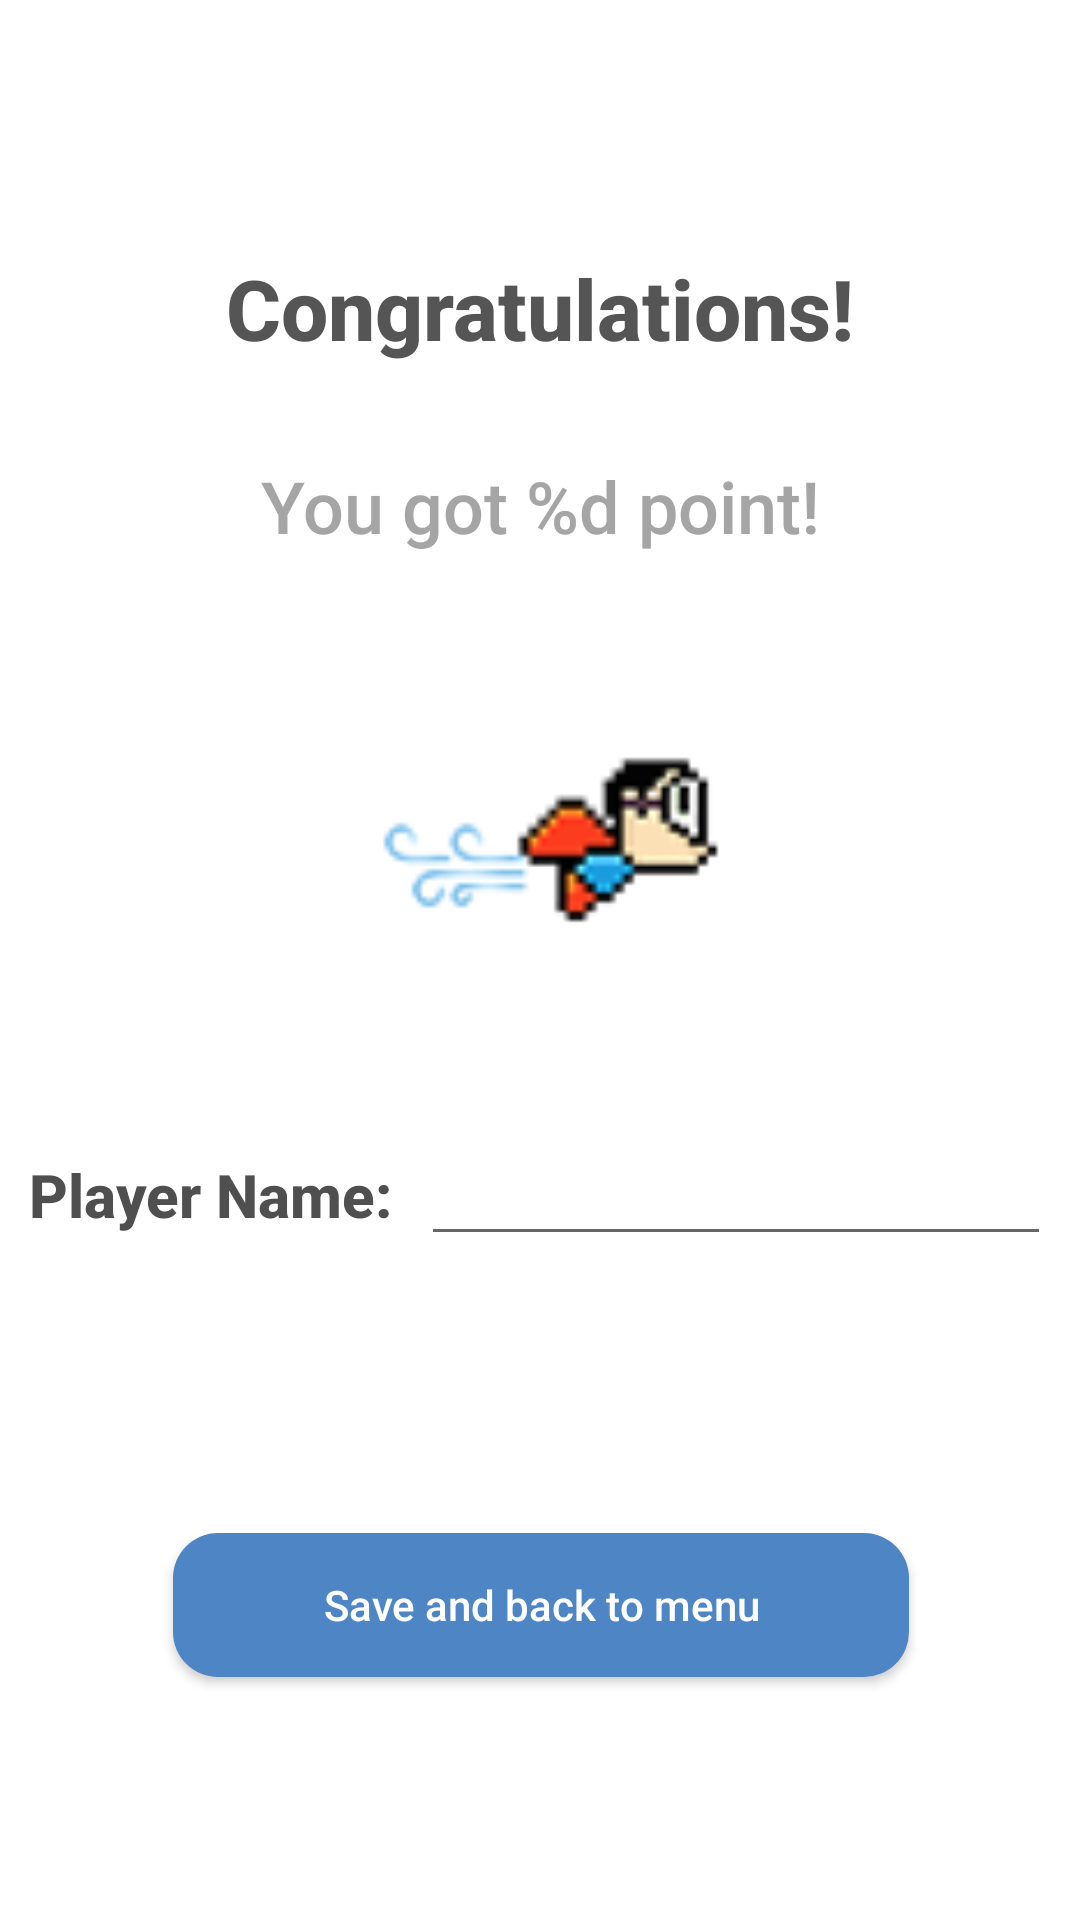

Named icons in this screenshot (1080px×1920px) and their centers, (x,y):
flying superman: (551,840)
